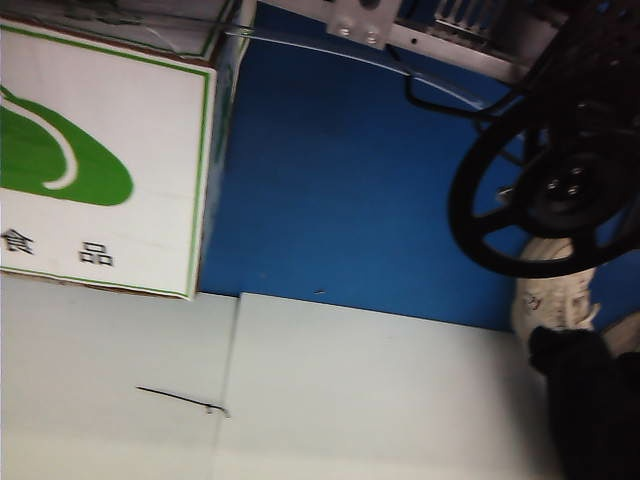Cube_food: (0, 47, 155, 283)
